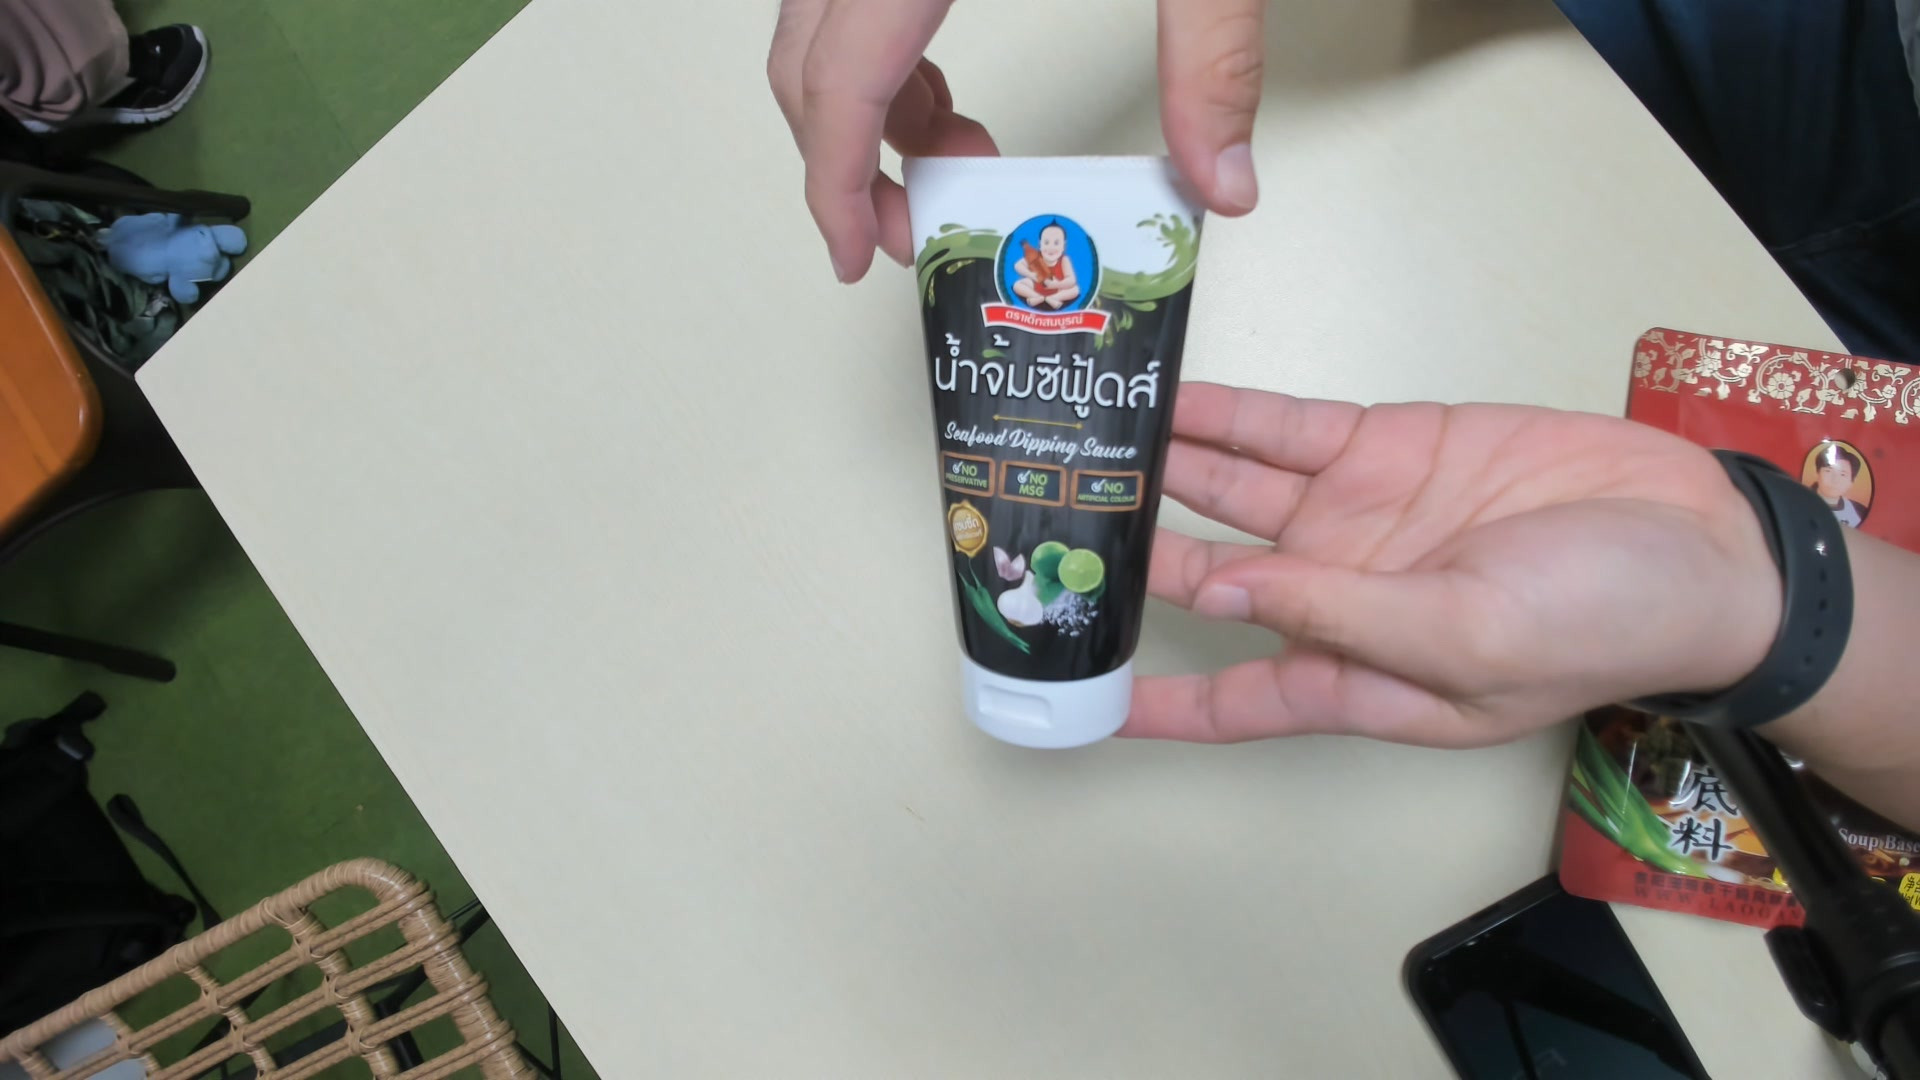OtherSauceDressing_100-199g_NonHalal_NonHealthy: (906, 146, 1208, 758)
